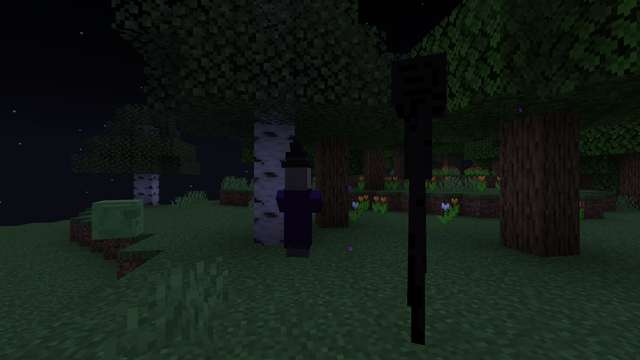endermens: (380, 41, 463, 354)
slimes: (87, 198, 147, 239)
sorcieres: (283, 163, 313, 260)
